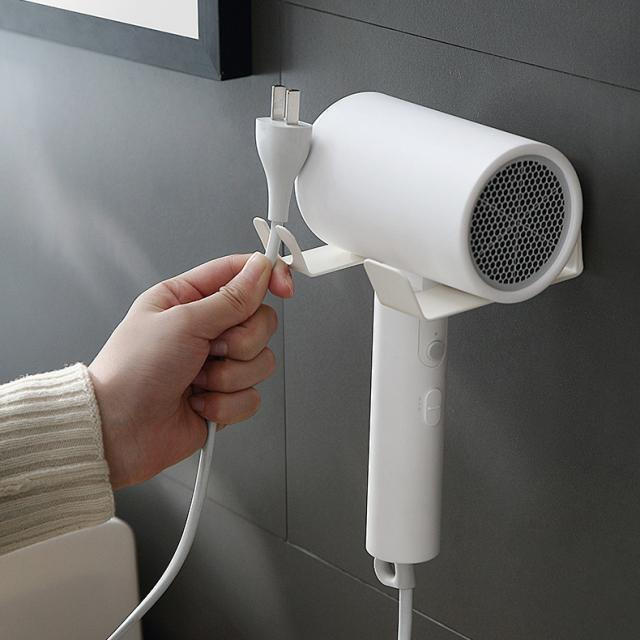dryer: (261, 63, 602, 589)
